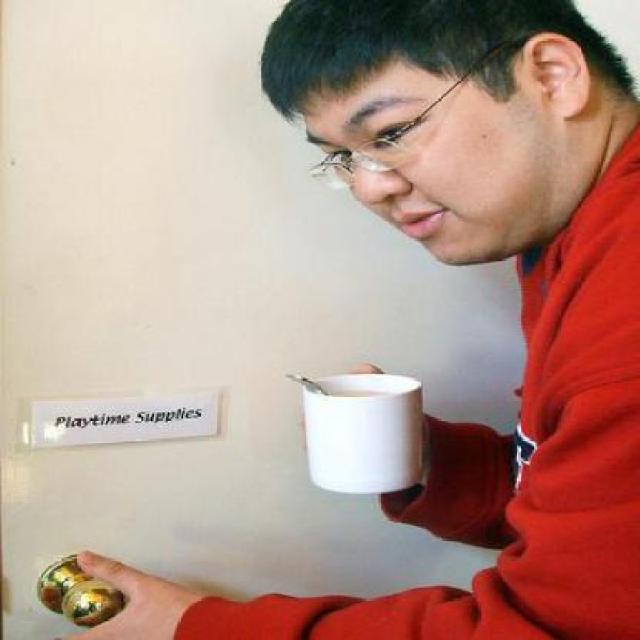Person: (57, 1, 638, 639)
